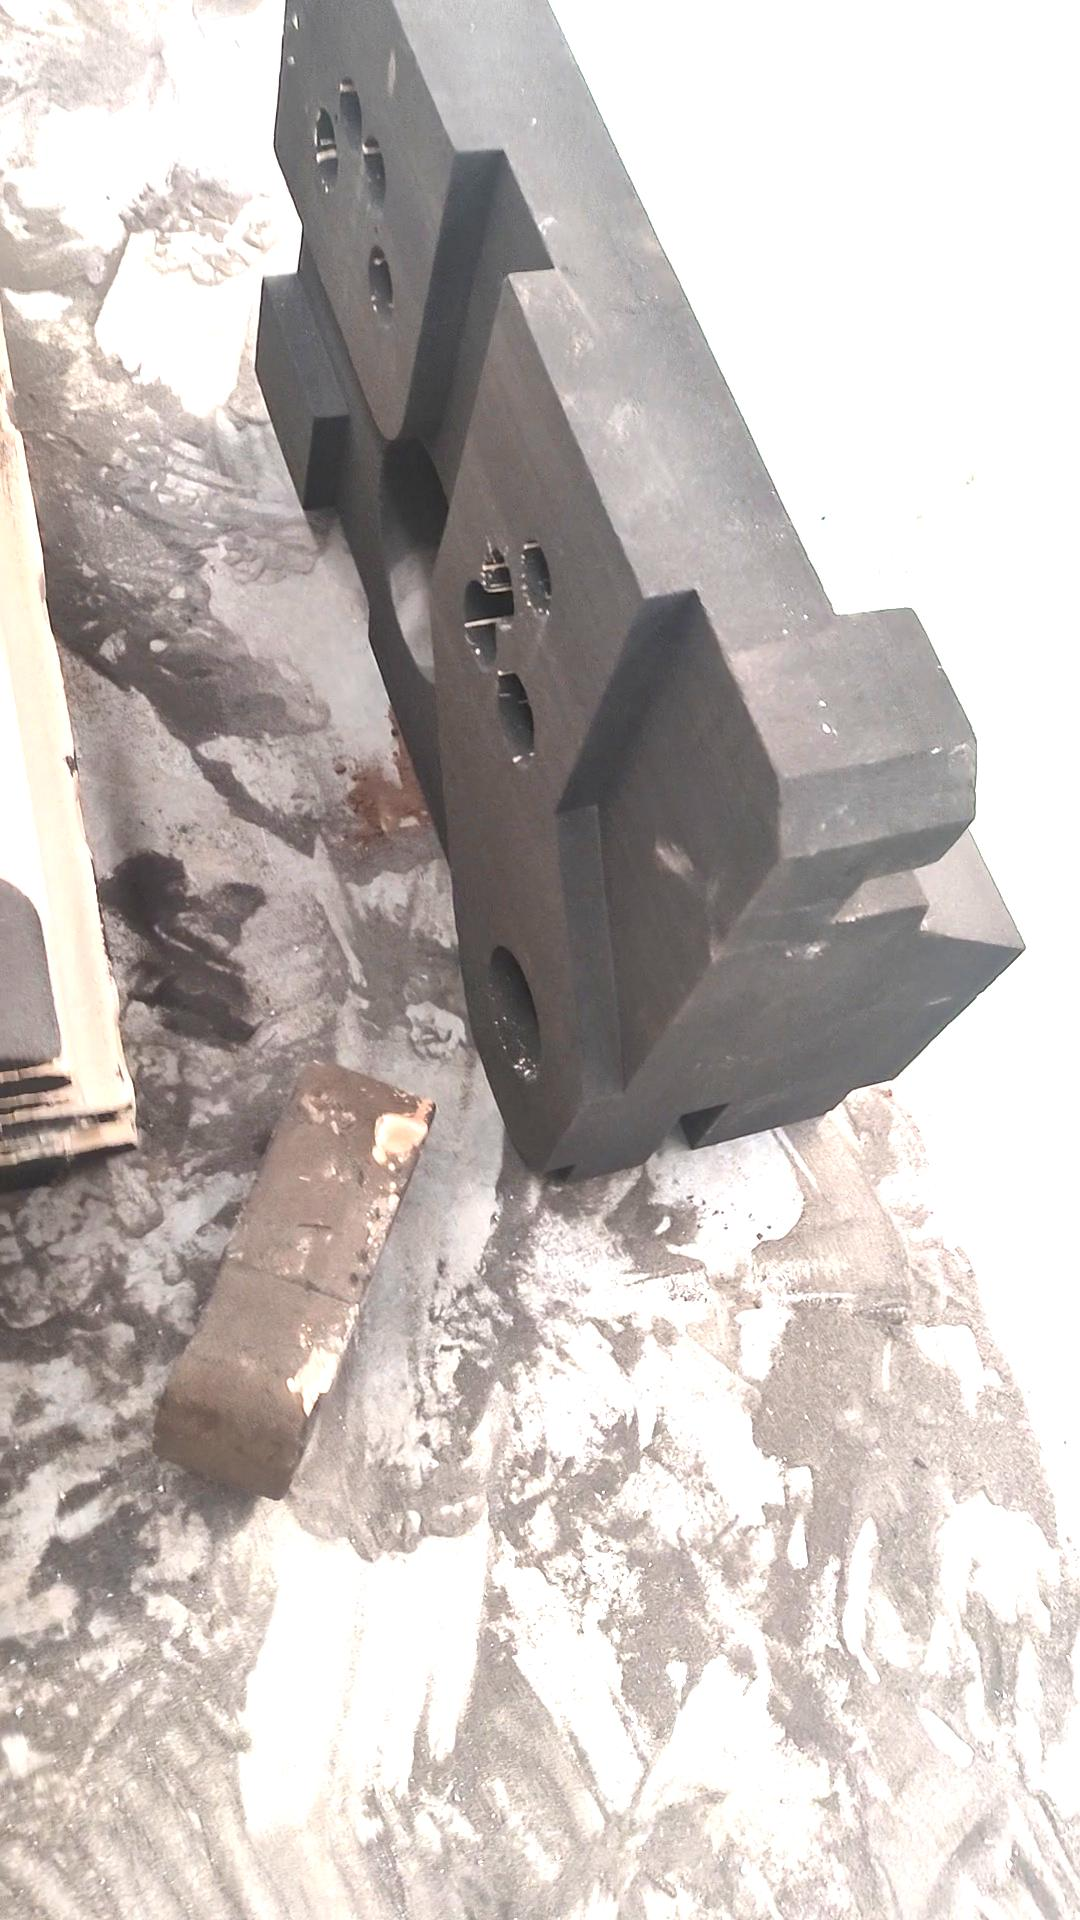pouring hole: (483, 943, 546, 1091)
